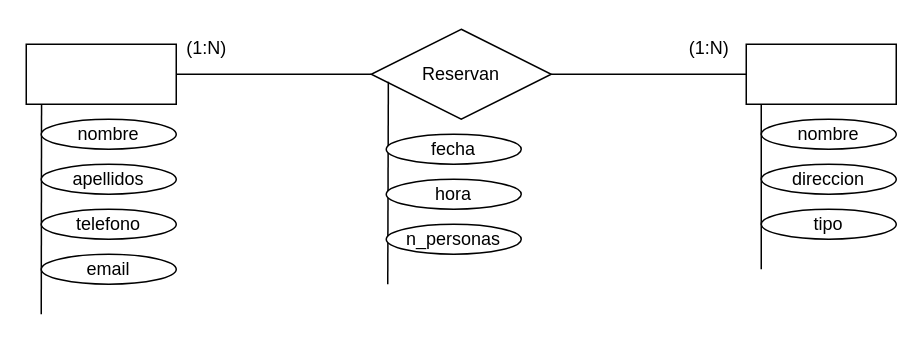
This 923x342 diagram has some shape labels left out. The centre of each missing label's shape, as x and y in pixels:
"Restaurantes" goes at pixel 820 73.
"Usuarios" goes at pixel 100 73.
